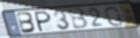2: (88, 7, 105, 28)
3: (52, 9, 71, 31)
B: (67, 7, 90, 30), (16, 11, 38, 35)
P: (35, 10, 53, 33)
Q: (104, 5, 126, 28)
